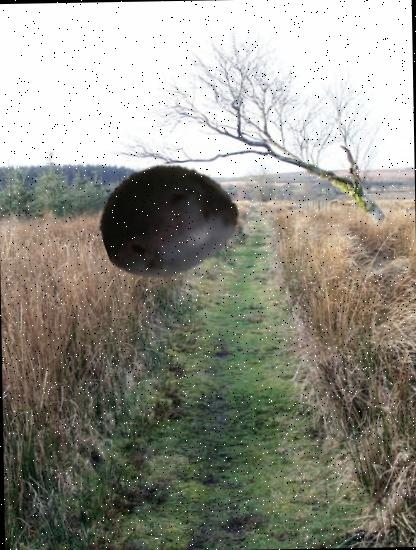Plum: (98, 148, 238, 288)
